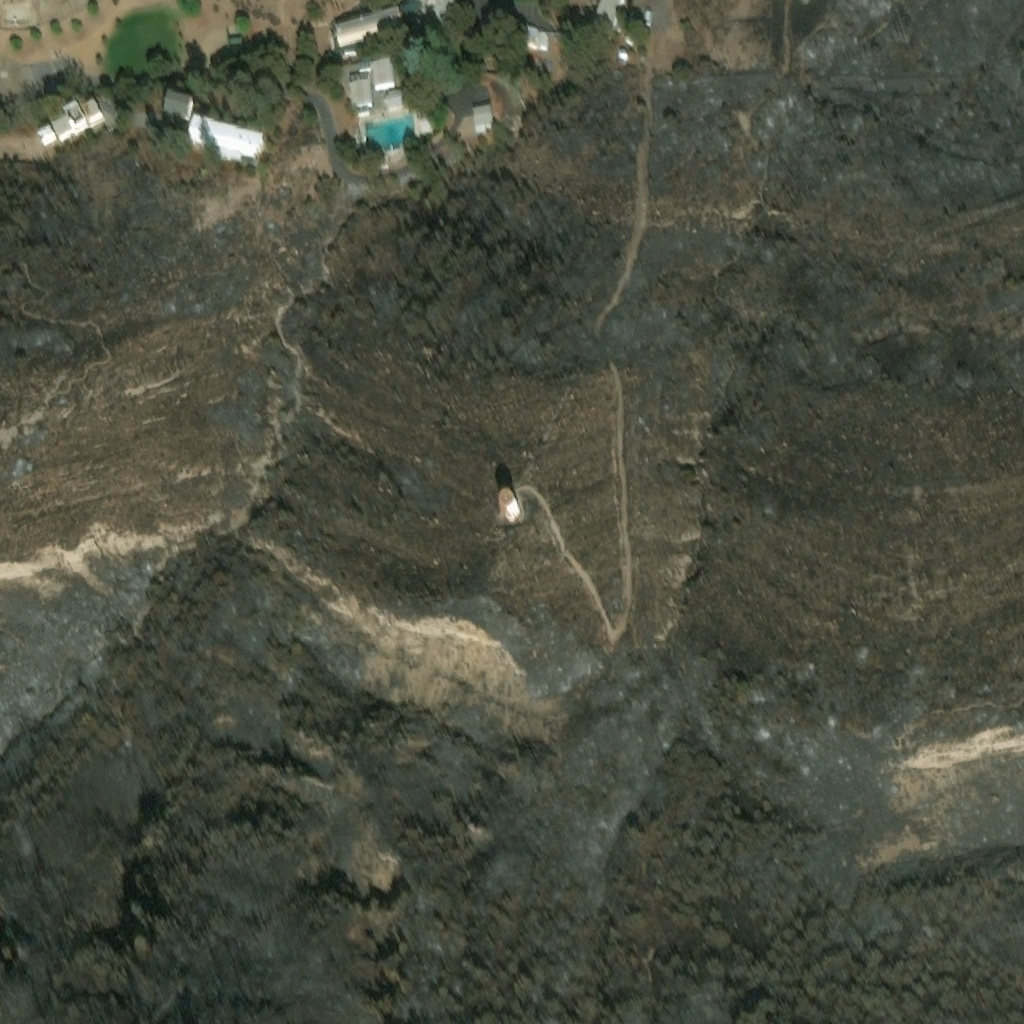0 no-damage: (190, 119, 269, 169), (332, 8, 408, 47), (397, 0, 462, 44), (64, 98, 101, 129), (592, 0, 625, 32), (166, 96, 198, 124), (474, 110, 498, 137), (350, 81, 373, 108), (374, 63, 396, 90), (525, 27, 547, 50), (503, 501, 523, 522), (389, 93, 406, 114), (37, 123, 55, 140), (226, 30, 242, 46), (88, 117, 103, 130), (617, 49, 629, 64)
4 un-classified: (422, 126, 435, 138)
